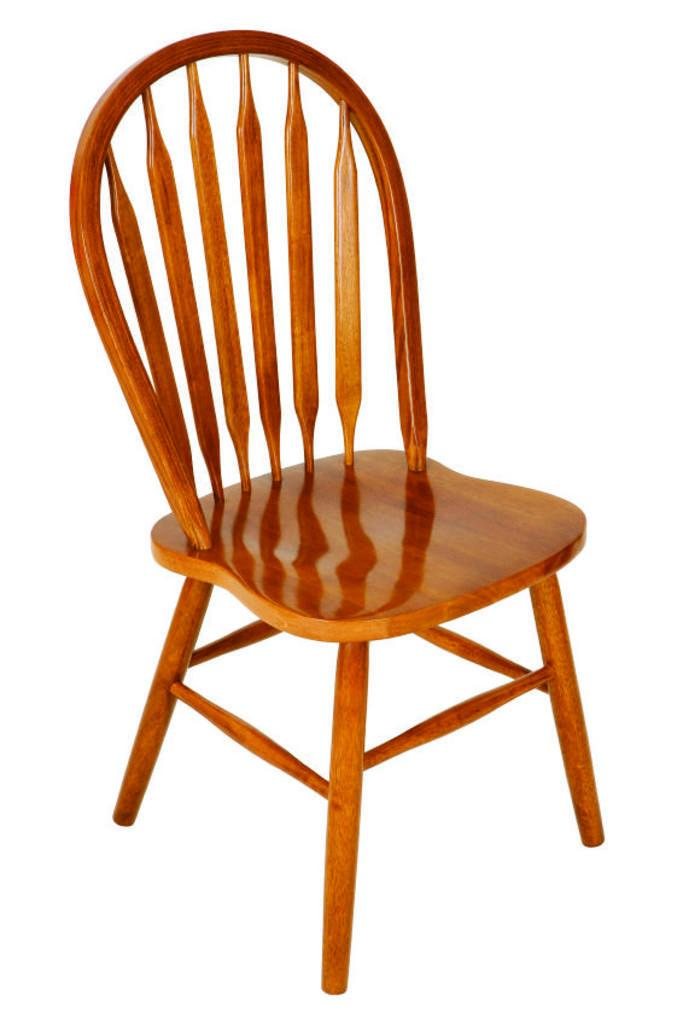Chair: (65, 24, 605, 991)
